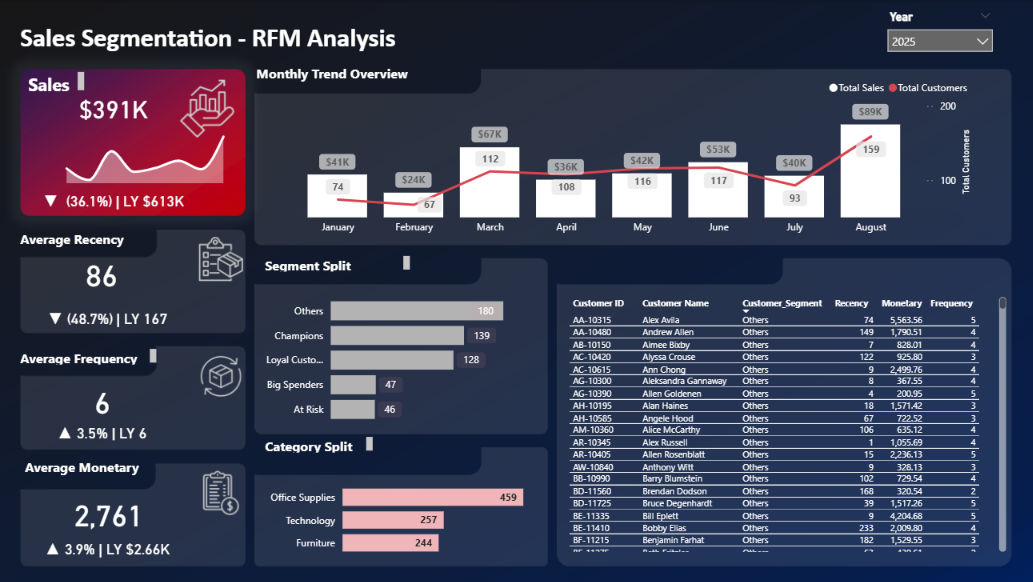

The dashboard page shown, as its layout file describes it:
{"tool":"powerbi","page":{"name":"Page 1","canvas":[1280,720],"ordinal":0},"visuals":[{"type":"textbox","box":[25.8,22.1,548.5,51.5],"z":0},{"type":"card","fields":{"Values":["Tbl_Measures.Total Sales"]},"box":[45.4,101.8,200,61.4],"z":1000},{"type":"textbox","box":[25.9,277.3,160,32],"z":2000},{"type":"textbox","box":[25.9,423.5,176.7,28.9],"z":3000},{"type":"textbox","box":[25.9,557.6,161.5,35],"z":4000},{"type":"card","fields":{"Values":["Tbl_Measures.AvgMonetary"]},"box":[67,603.3,143.2,53.3],"z":5000},{"type":"card","fields":{"Values":["Tbl_Measures.AvgRecency"]},"box":[71.6,309.3,118.8,53.3],"z":6000},{"type":"card","fields":{"Values":["Tbl_Measures.AvgFrequency"]},"box":[79.2,466.2,103.6,51.8],"z":7000},{"type":"textbox","box":[35.6,83.4,78.5,35.6],"z":8000},{"type":"card","fields":{"Values":["Tbl_Measures.YoY SalesVariance"]},"box":[38,230.7,214.7,34.4],"z":9000},{"type":"slicer","fields":{"Values":["DateTable.Year"]},"box":[1084.7,7.6,149.3,80.7],"z":10000},{"type":"card","fields":{"Values":["Tbl_Measures.YoY RecencyVar"]},"box":[38.1,373.3,199.6,36.6],"z":11000},{"type":"card","fields":{"Values":["Tbl_Measures.YoY FrequencyVar"]},"box":[44.2,518,173.7,25.9],"z":12000},{"type":"card","fields":{"Values":["Tbl_Measures.YoY MonetaryVar"]},"box":[50.3,656.6,175.2,35],"z":13000},{"type":"lineChart","fields":{"Y":["Sum(Superstore 2025.Sales)"],"Category":["DateTable.Month Number"]},"box":[45.7,144.7,249.8,85.3],"z":14000},{"type":"lineStackedColumnComboChart","fields":{"Y":["Tbl_Measures.Total Sales"],"Y2":["Tbl_Measures.Total Customers"],"Category":["DateTable.Month Name"]},"box":[341.1,88.3,861.4,208.6],"z":15000},{"type":"textbox","box":[315.3,73.6,244.2,35.6],"z":15001},{"type":"clusteredBarChart","fields":{"Category":["RFM_Calculation.Customer_Segment"],"Y":["CountNonNull(RFM_Calculation.Customer ID)"]},"box":[312.3,344.3,342.8,187.4],"z":15002},{"type":"textbox","box":[326,309.3,187.4,28.9],"z":15003},{"type":"textbox","box":[326,83.8,233.1,79.2],"z":15004},{"type":"clusteredBarChart","fields":{"Category":["Superstore 2025.Category"],"Y":["Superstore 2025.count of customer ID"]},"box":[326,575.9,359.5,118.8],"z":15005},{"type":"textbox","box":[326,531.7,141.7,28.9],"z":15006},{"type":"tableEx","fields":{"Values":["RFM_Calculation.Customer ID","RFM_Calculation.Customer Name","RFM_Calculation.Customer_Segment","RFM_Calculation.Recency","RFM_Calculation.Monetary","RFM_Calculation.Frequency"]},"box":[698.2,359.5,547.2,322.7],"z":15007}]}

Visuals, with their boxes in screenshot pixels (x1, y1, x2, y2), scaled from the page's 1280x720 canvas onto the 1033x582 screenshot:
textbox: (x1=21, y1=18, x2=463, y2=59)
card - Tbl_Measures.Total Sales: (x1=37, y1=82, x2=198, y2=132)
textbox: (x1=21, y1=224, x2=150, y2=250)
textbox: (x1=21, y1=342, x2=164, y2=366)
textbox: (x1=21, y1=451, x2=151, y2=479)
card - Tbl_Measures.AvgMonetary: (x1=54, y1=488, x2=170, y2=531)
card - Tbl_Measures.AvgRecency: (x1=58, y1=250, x2=154, y2=293)
card - Tbl_Measures.AvgFrequency: (x1=64, y1=377, x2=148, y2=419)
textbox: (x1=29, y1=67, x2=92, y2=96)
card - Tbl_Measures.YoY SalesVariance: (x1=31, y1=186, x2=204, y2=214)
slicer - DateTable.Year: (x1=875, y1=6, x2=996, y2=71)
card - Tbl_Measures.YoY RecencyVar: (x1=31, y1=302, x2=192, y2=331)
card - Tbl_Measures.YoY FrequencyVar: (x1=36, y1=419, x2=176, y2=440)
card - Tbl_Measures.YoY MonetaryVar: (x1=41, y1=531, x2=182, y2=559)
lineChart - Sum(Superstore 2025.Sales) x DateTable.Month Number: (x1=37, y1=117, x2=238, y2=186)
lineStackedColumnComboChart - Tbl_Measures.Total Sales x Tbl_Measures.Total Customers: (x1=275, y1=71, x2=970, y2=240)
textbox: (x1=254, y1=59, x2=452, y2=88)
clusteredBarChart - RFM_Calculation.Customer_Segment x CountNonNull(RFM_Calculation.Customer ID): (x1=252, y1=278, x2=529, y2=430)
textbox: (x1=263, y1=250, x2=414, y2=273)
textbox: (x1=263, y1=68, x2=451, y2=132)
clusteredBarChart - Superstore 2025.Category x Superstore 2025.count of customer ID: (x1=263, y1=466, x2=553, y2=562)
textbox: (x1=263, y1=430, x2=377, y2=453)
tableEx - RFM_Calculation.Customer ID x RFM_Calculation.Customer Name: (x1=563, y1=291, x2=1005, y2=551)
